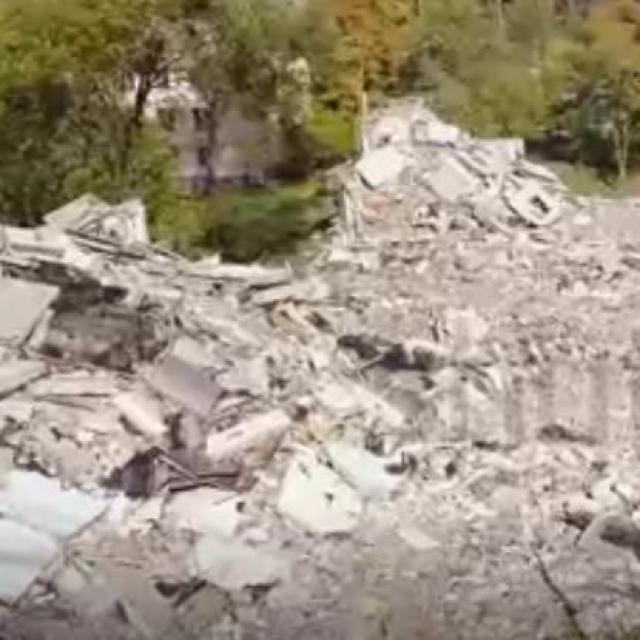collapsed_building: (0, 200, 635, 638)
